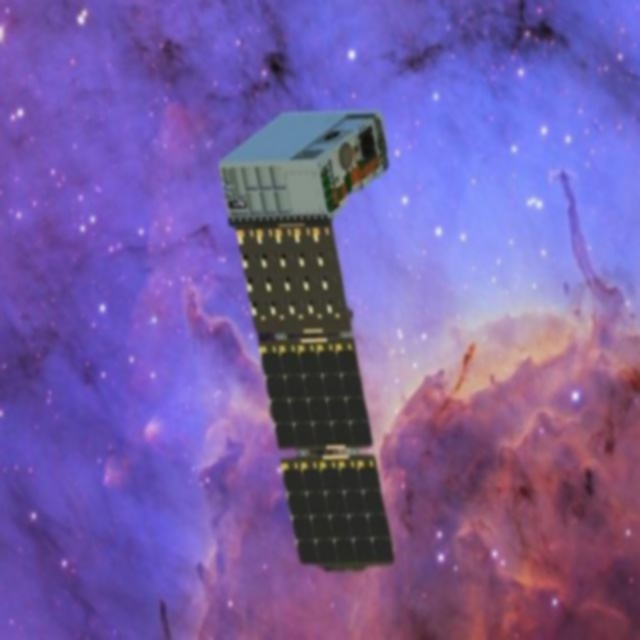medium_debris: (211, 95, 407, 567)
